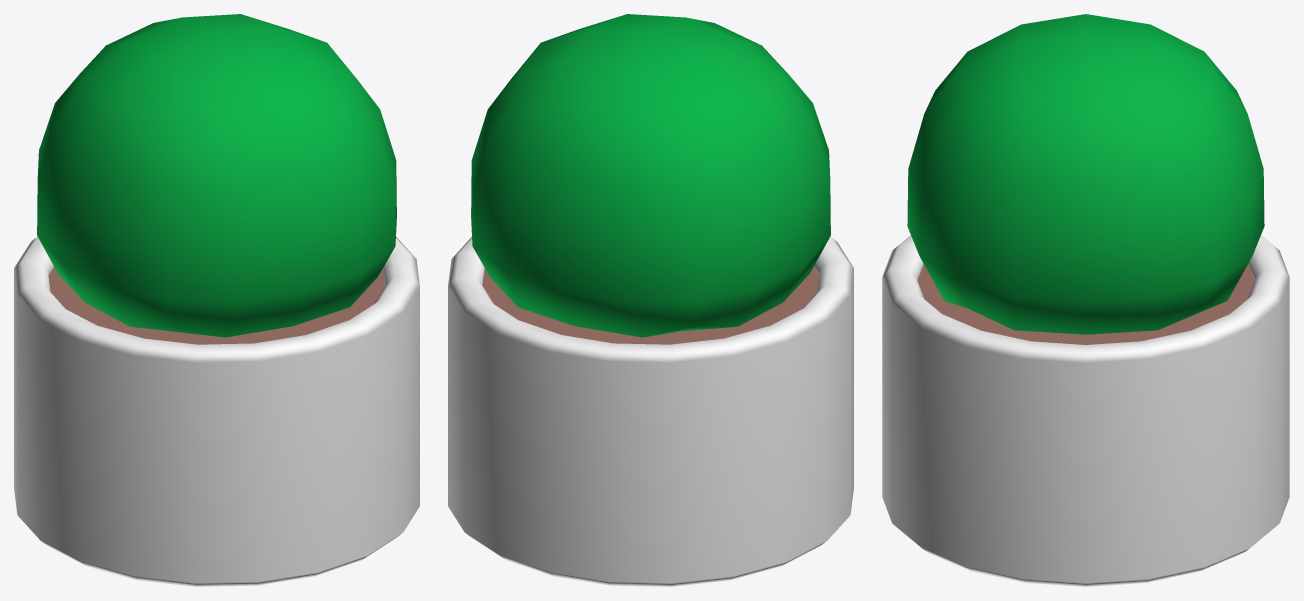
File: Town_2_Plant_1.glb
3 views of the same model, side by side, from view 1: azimuth 30°, elevation 25°; view 2: azimuth 150°, elevation 25°; view 3: azimuth 270°, elevation 25° (orthographic).
Visible parts, largest first — view 1: Town_2_Plant_1; view 2: Town_2_Plant_1; view 3: Town_2_Plant_1.
Part boxes in pixels (left/top/right/bottom): Town_2_Plant_1: left=14, top=14, right=419, bottom=586; Town_2_Plant_1: left=448, top=14, right=853, bottom=586; Town_2_Plant_1: left=882, top=14, right=1289, bottom=586.
Size of the model in its own units: 1.15 by 1.47 by 1.15.
Materials: 1 (1 with a texture image).
